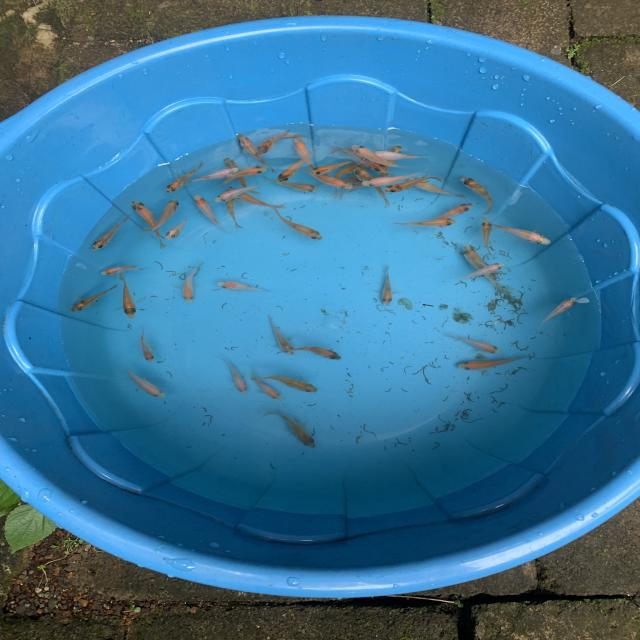nila: (258, 407, 319, 449), (480, 215, 556, 247), (460, 244, 507, 293), (269, 203, 326, 242), (128, 198, 169, 250), (345, 168, 393, 210), (276, 144, 322, 187), (449, 352, 534, 374), (234, 132, 278, 174), (68, 281, 124, 314), (457, 172, 497, 217), (331, 146, 389, 176), (350, 144, 411, 172), (91, 212, 134, 251), (406, 173, 469, 199), (264, 314, 300, 359), (218, 154, 259, 193), (139, 197, 183, 233), (161, 160, 207, 194), (182, 164, 242, 190), (333, 174, 393, 200), (119, 367, 167, 399), (191, 193, 229, 233), (253, 128, 300, 160), (228, 186, 288, 210), (540, 295, 581, 330), (301, 165, 357, 190), (444, 332, 504, 355), (258, 373, 322, 394), (115, 272, 142, 320), (382, 174, 446, 194), (275, 343, 344, 361), (219, 355, 250, 395), (376, 139, 409, 176), (210, 182, 268, 203), (220, 185, 246, 230), (182, 262, 208, 306), (221, 164, 272, 186), (428, 201, 477, 223), (359, 150, 441, 163), (262, 173, 318, 192), (357, 172, 423, 188), (250, 371, 284, 401), (452, 262, 508, 280), (308, 157, 360, 175), (215, 278, 273, 294), (394, 217, 464, 230), (294, 134, 319, 170), (164, 214, 196, 242), (379, 263, 396, 308), (332, 172, 392, 184), (481, 216, 497, 257), (101, 263, 151, 276), (139, 325, 154, 363)
